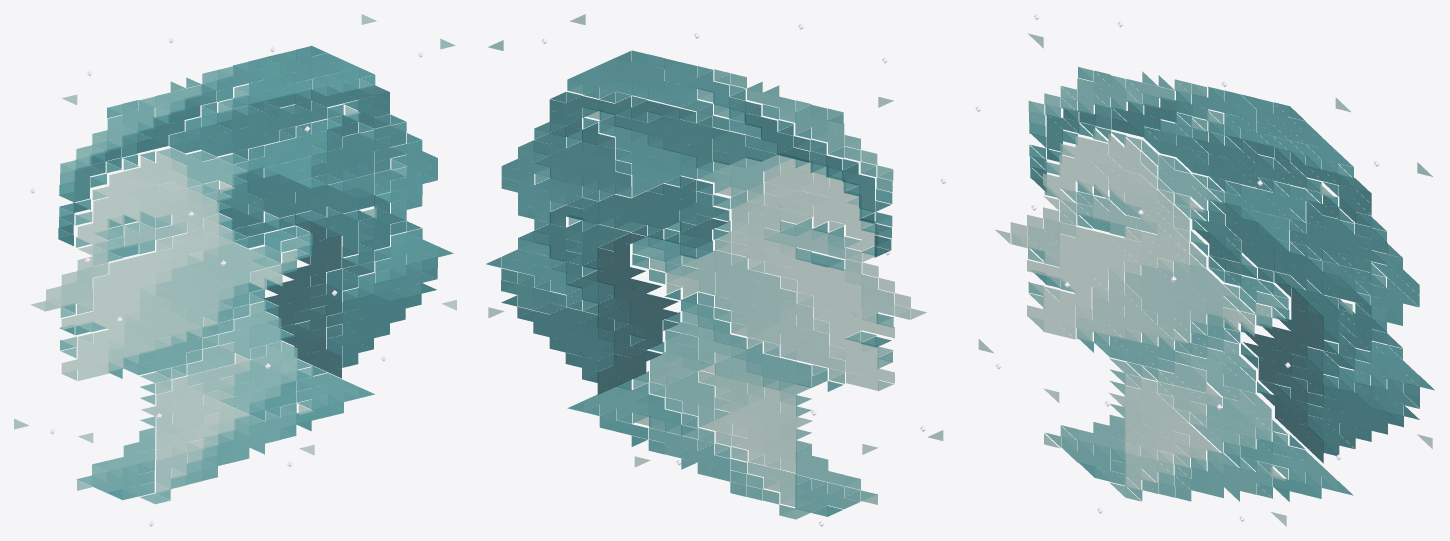
The model's file is nancy-easy.glb.
3 renders of one model, left to right at view 1: azimuth 30°, elevation 25°; view 2: azimuth 150°, elevation 25°; view 3: azimuth 330°, elevation 25°, orthographic. The views are drawn at different scales.
Visible parts, largest first — view 1: NancyPortrait_easy; view 2: NancyPortrait_easy; view 3: NancyPortrait_easy.
Boxes of the visible parts, x1,y1,x2,y2 form: NancyPortrait_easy: (14, 14, 456, 526); NancyPortrait_easy: (486, 14, 946, 526); NancyPortrait_easy: (975, 14, 1434, 526).
Size of the model in its own units: 1.79 by 1.87 by 0.1089.
